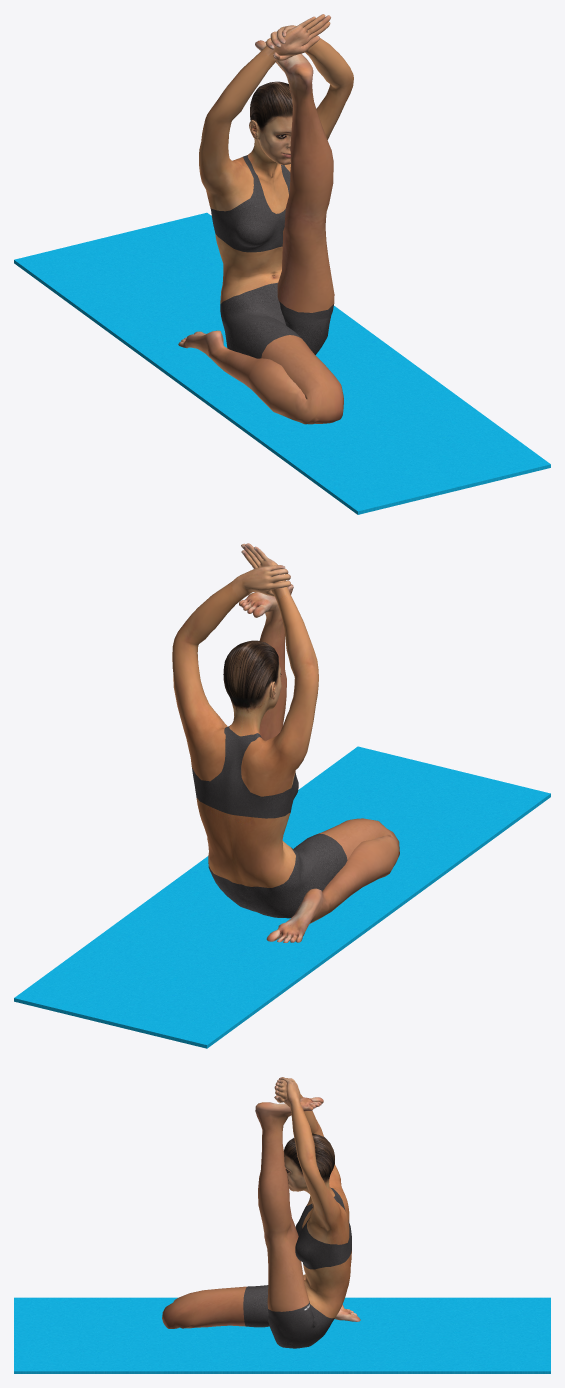
Rendered from krounchasana.glb.
The picture shows the model from 3 angles, top to bottom: view 1: azimuth 30°, elevation 25°; view 2: azimuth 150°, elevation 25°; view 3: azimuth 270°, elevation 25°; orthographic projection. The views are drawn at different scales.
Parts seen in each view (by area): view 1: Mat-one-piece_jpg-material, Lily_Texture01_06_2016_jpg-material; view 2: Mat-one-piece_jpg-material, Lily_Texture01_06_2016_jpg-material; view 3: Mat-one-piece_jpg-material, Lily_Texture01_06_2016_jpg-material.
Boxes of the visible parts, bbox=[...] form: Mat-one-piece_jpg-material: bbox=[14, 212, 550, 514]; Lily_Texture01_06_2016_jpg-material: bbox=[178, 14, 353, 424]; Mat-one-piece_jpg-material: bbox=[14, 746, 550, 1048]; Lily_Texture01_06_2016_jpg-material: bbox=[172, 543, 399, 942]; Mat-one-piece_jpg-material: bbox=[14, 1297, 550, 1373]; Lily_Texture01_06_2016_jpg-material: bbox=[162, 1077, 360, 1348].
Bounding box in the file's own units: 2 × 3.51 × 6.17.
3 materials, 2 textured.
